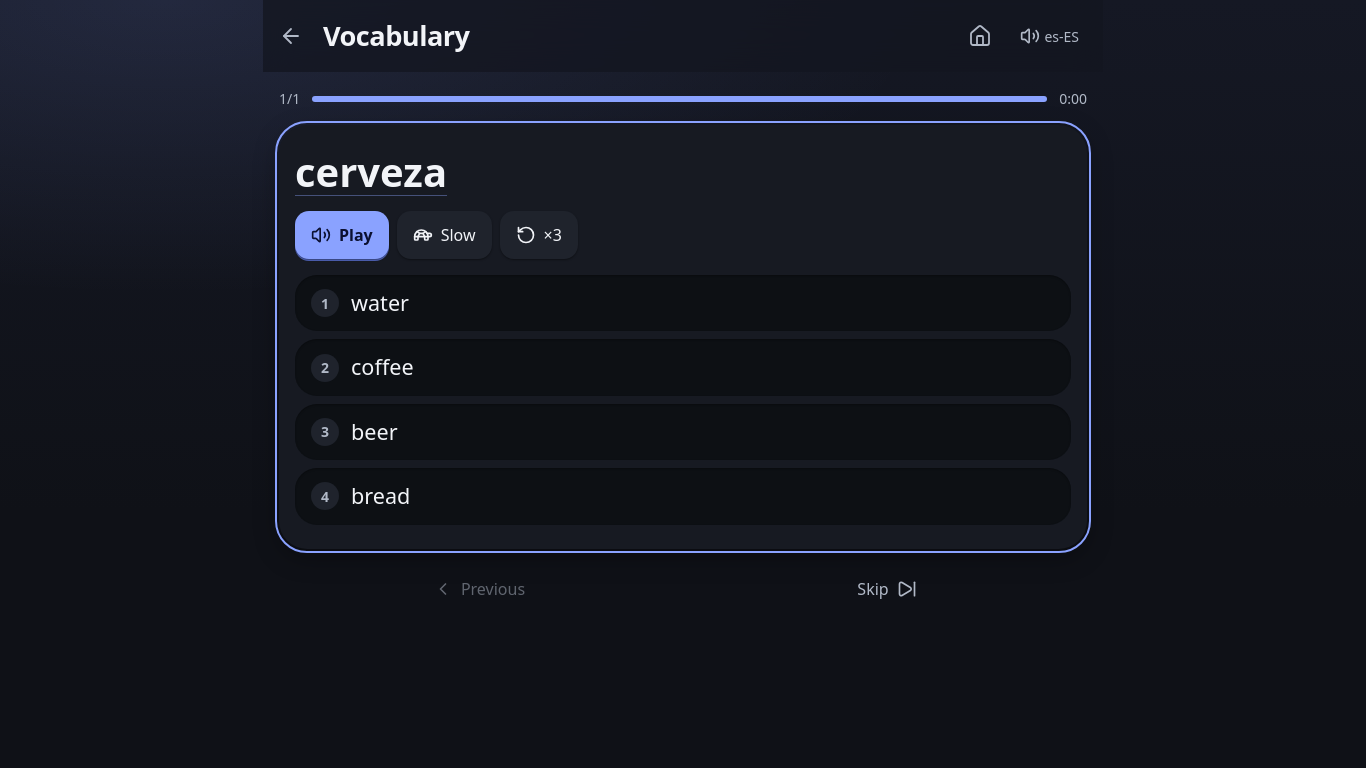
Test: word inspection › withholds the meaning, not the word, while a multiple choice is live
Click the button with aria-label "About “cerveza”": (371, 172) top-left (295, 149), bottom-right (447, 195)
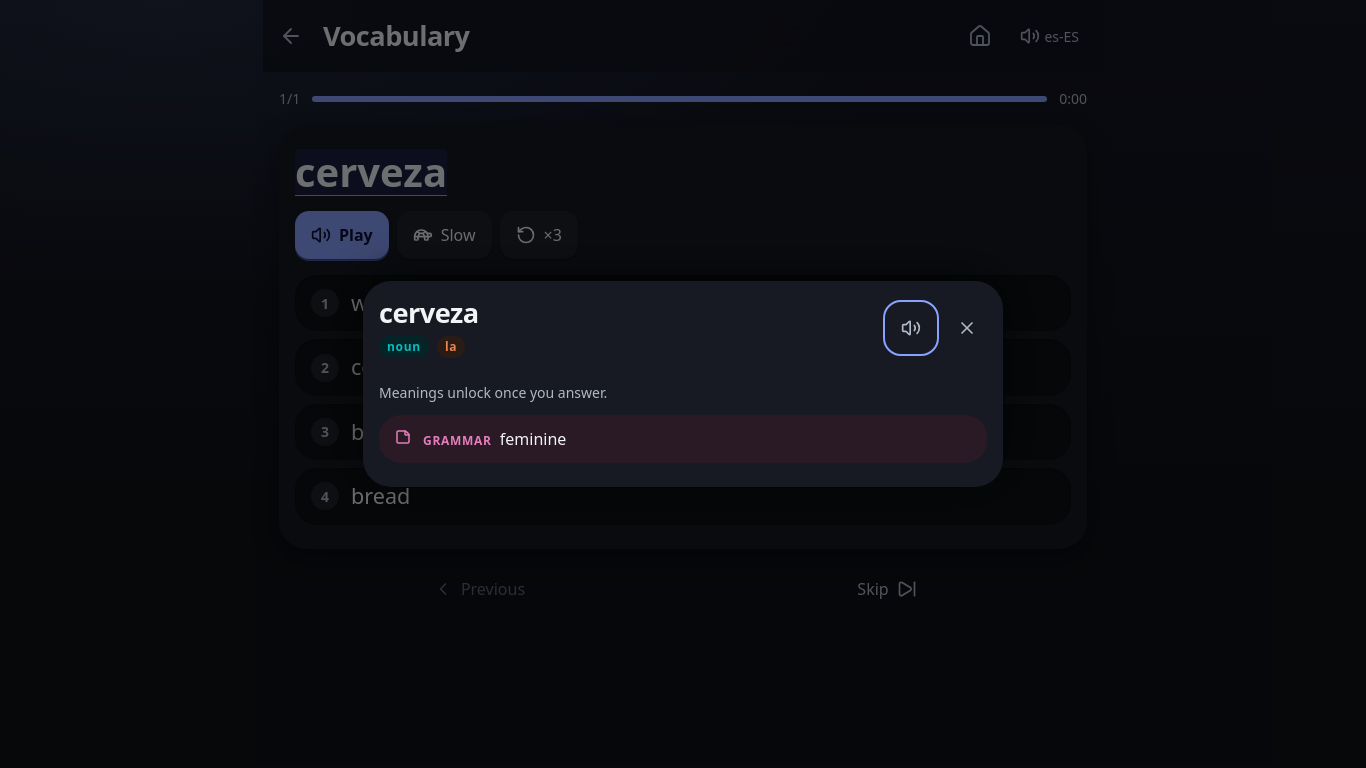
Expected: the dialog named "About cerveza" shows "noun", top-left (387, 338), bottom-right (421, 355)
Expected: the dialog named "About cerveza" shows "feminine", top-left (500, 428), bottom-right (566, 450)
Expected: the dialog named "About cerveza" shows "Meanings unlock once you answer.", top-left (379, 383), bottom-right (607, 402)
Click the button named "Close": (967, 328) top-left (943, 304), bottom-right (991, 352)
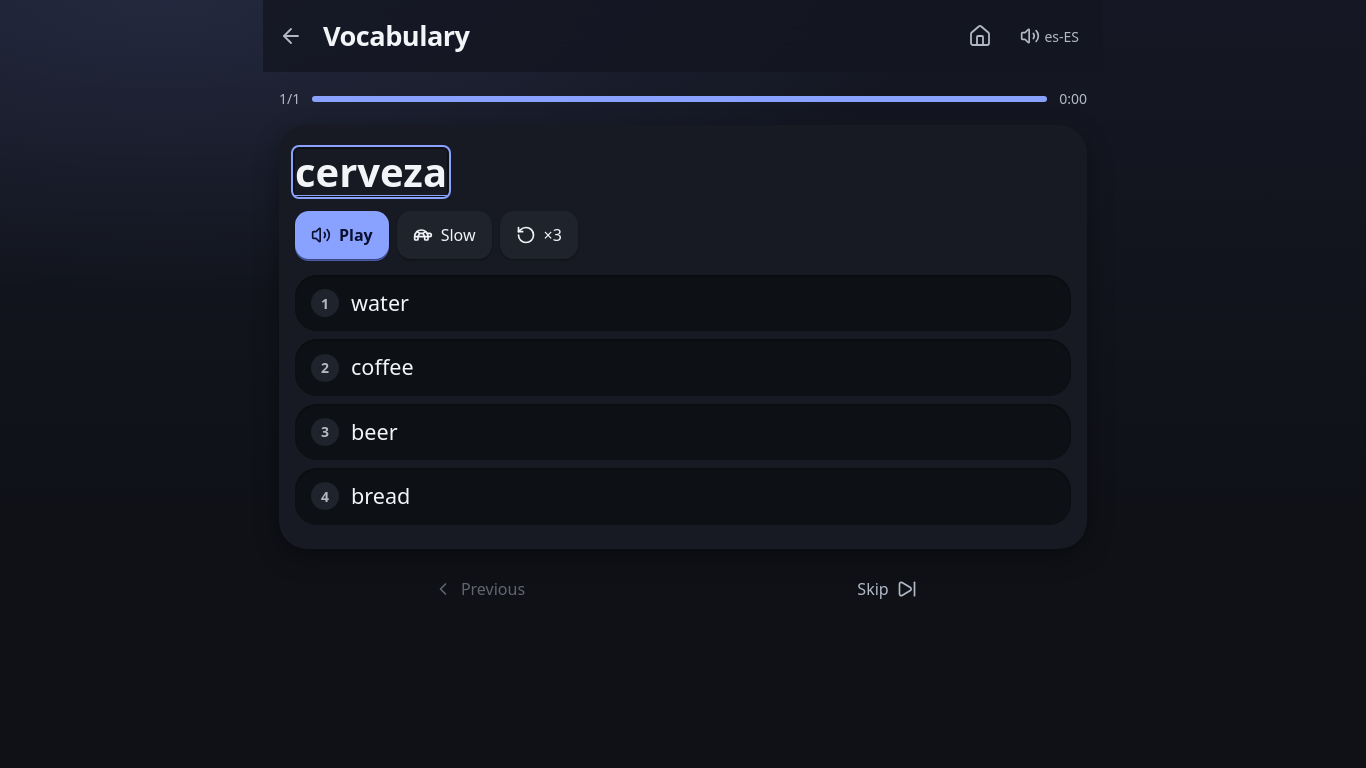
Click the button "3 beer": (374, 431) top-left (295, 404), bottom-right (1071, 460)
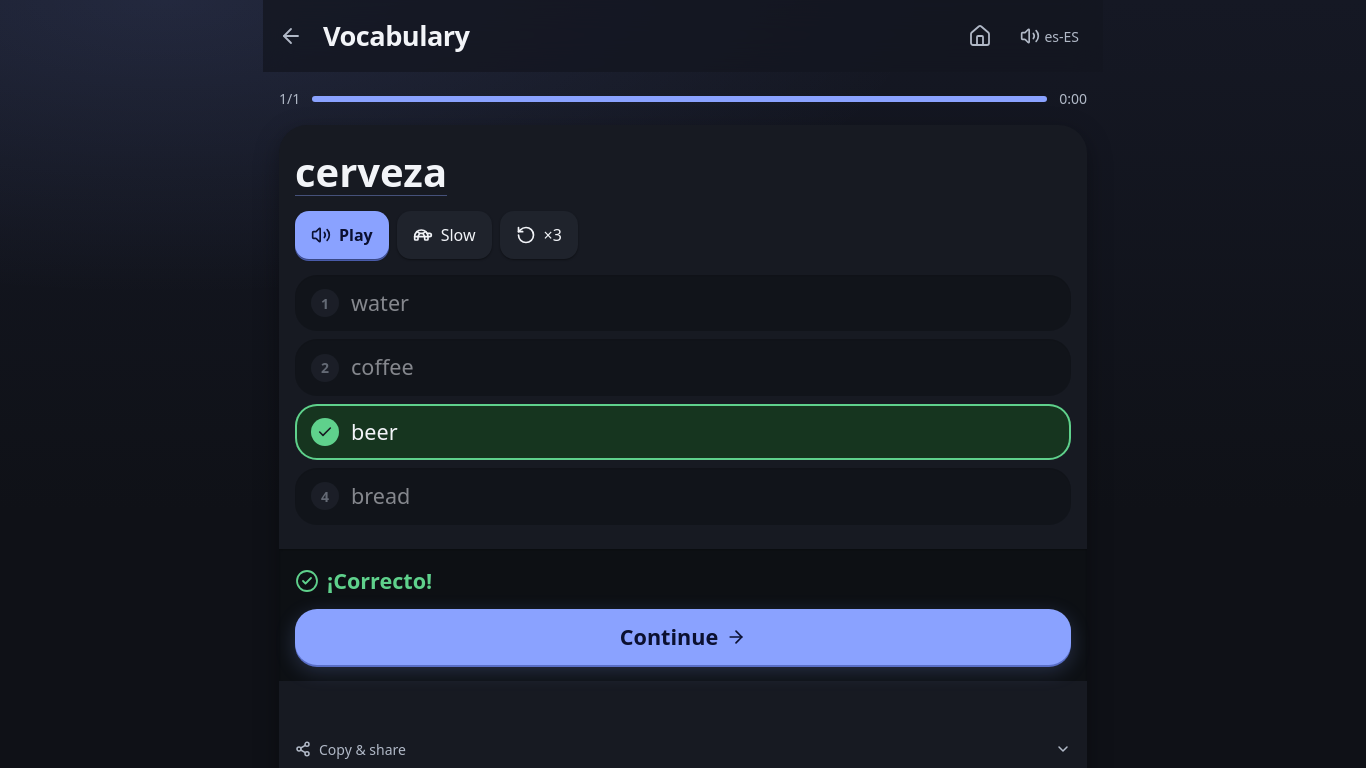
Expected: the button "Continue" is shown, top-left (295, 609), bottom-right (1071, 665)
Click the button with aria-label "About “cerveza”": (371, 172) top-left (295, 149), bottom-right (447, 195)
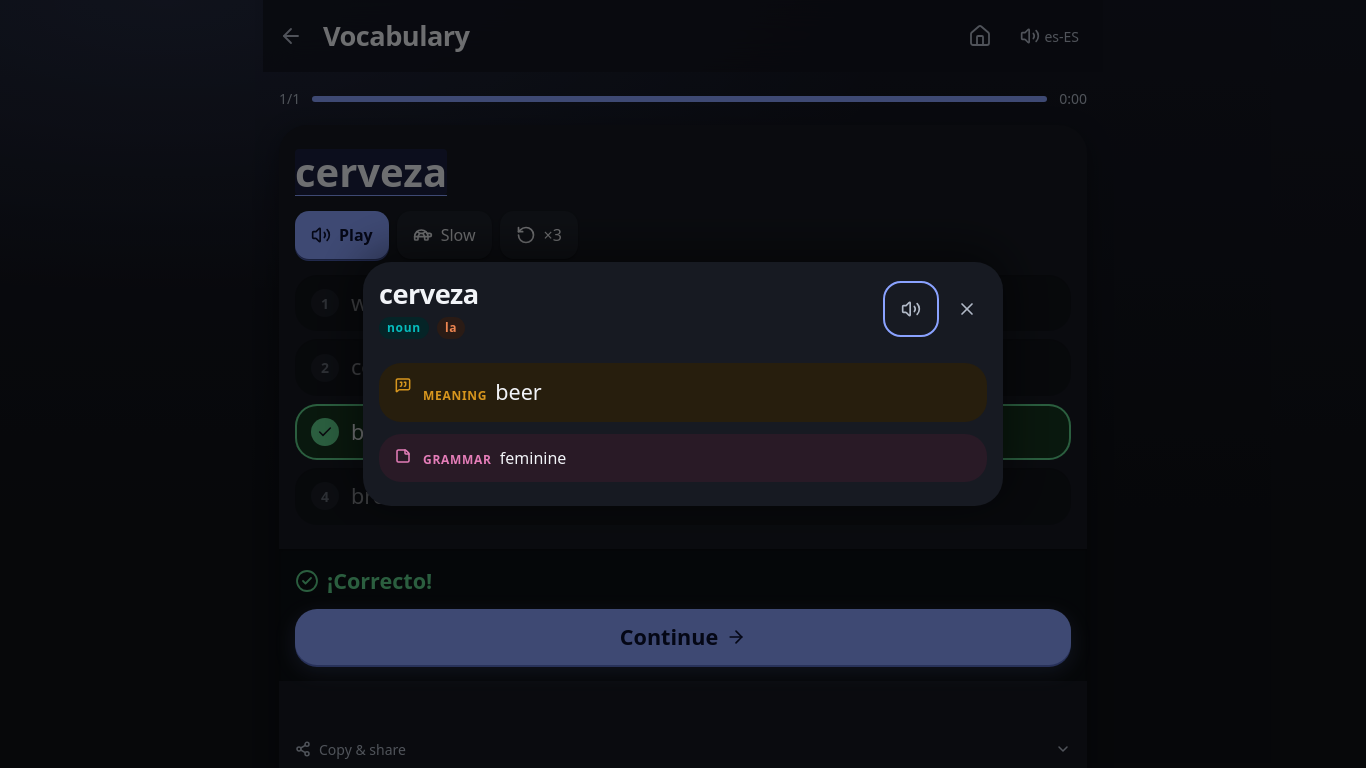
Expected: the dialog named "About cerveza" does not show "Meanings unlock", top-left (363, 262), bottom-right (1003, 506)
Expected: the dialog named "About cerveza" shows "beer", top-left (495, 377), bottom-right (542, 406)
